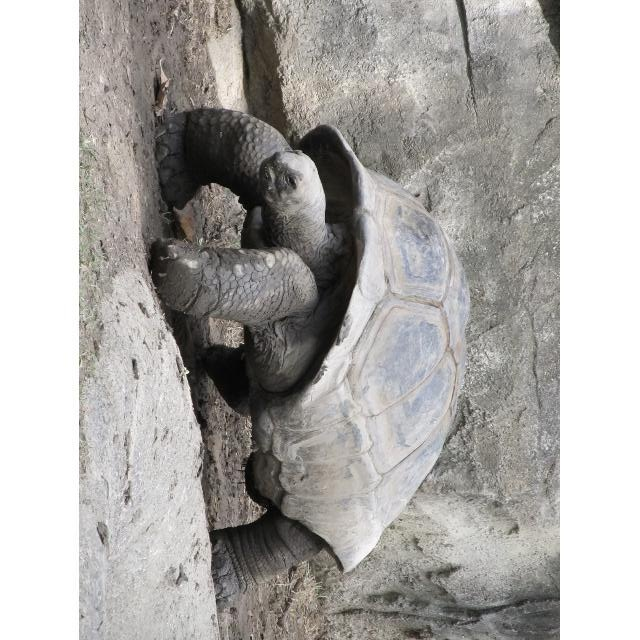turtle: (149, 104, 471, 598)
